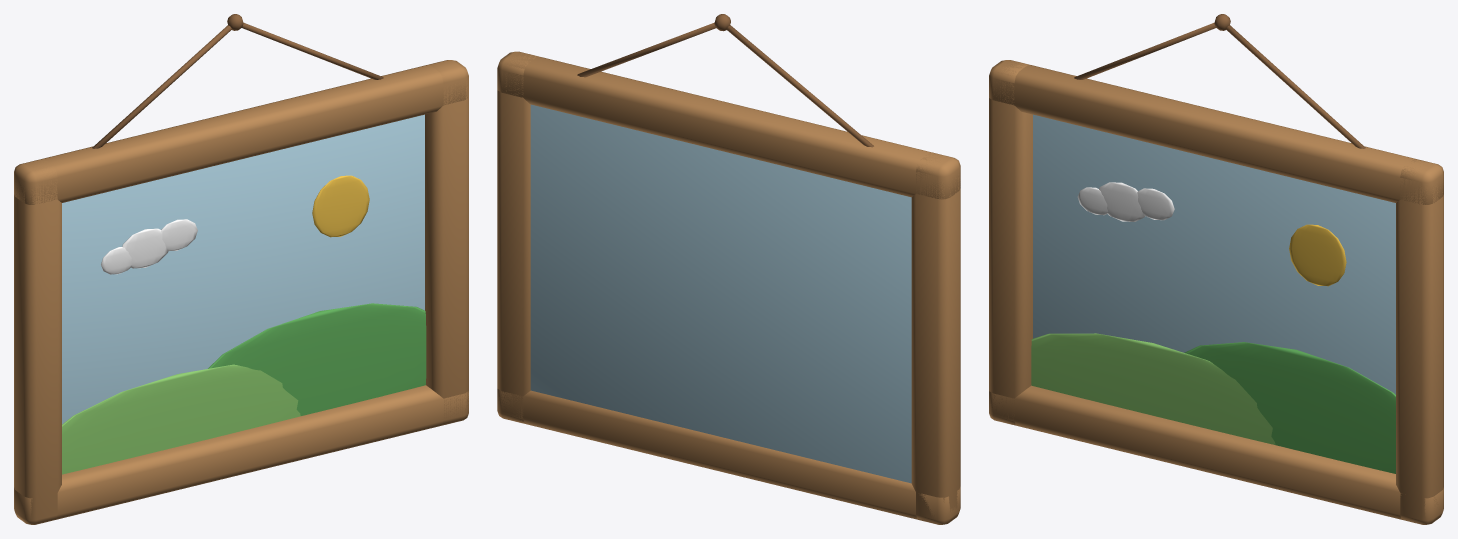
Rendered from picture-frame.glb.
The picture shows the model from 3 angles, left to right: view 1: azimuth 30°, elevation 25°; view 2: azimuth 150°, elevation 25°; view 3: azimuth 330°, elevation 25°; orthographic projection.
Visible parts, largest first — view 1: frame; view 2: frame; view 3: frame.
Boxes of the visible parts, x1,y1,x2,y2 form: frame: [14, 14, 468, 524]; frame: [497, 14, 960, 524]; frame: [989, 14, 1443, 524].
Bounding box in the file's own units: 0.84 × 0.814 × 0.064.
